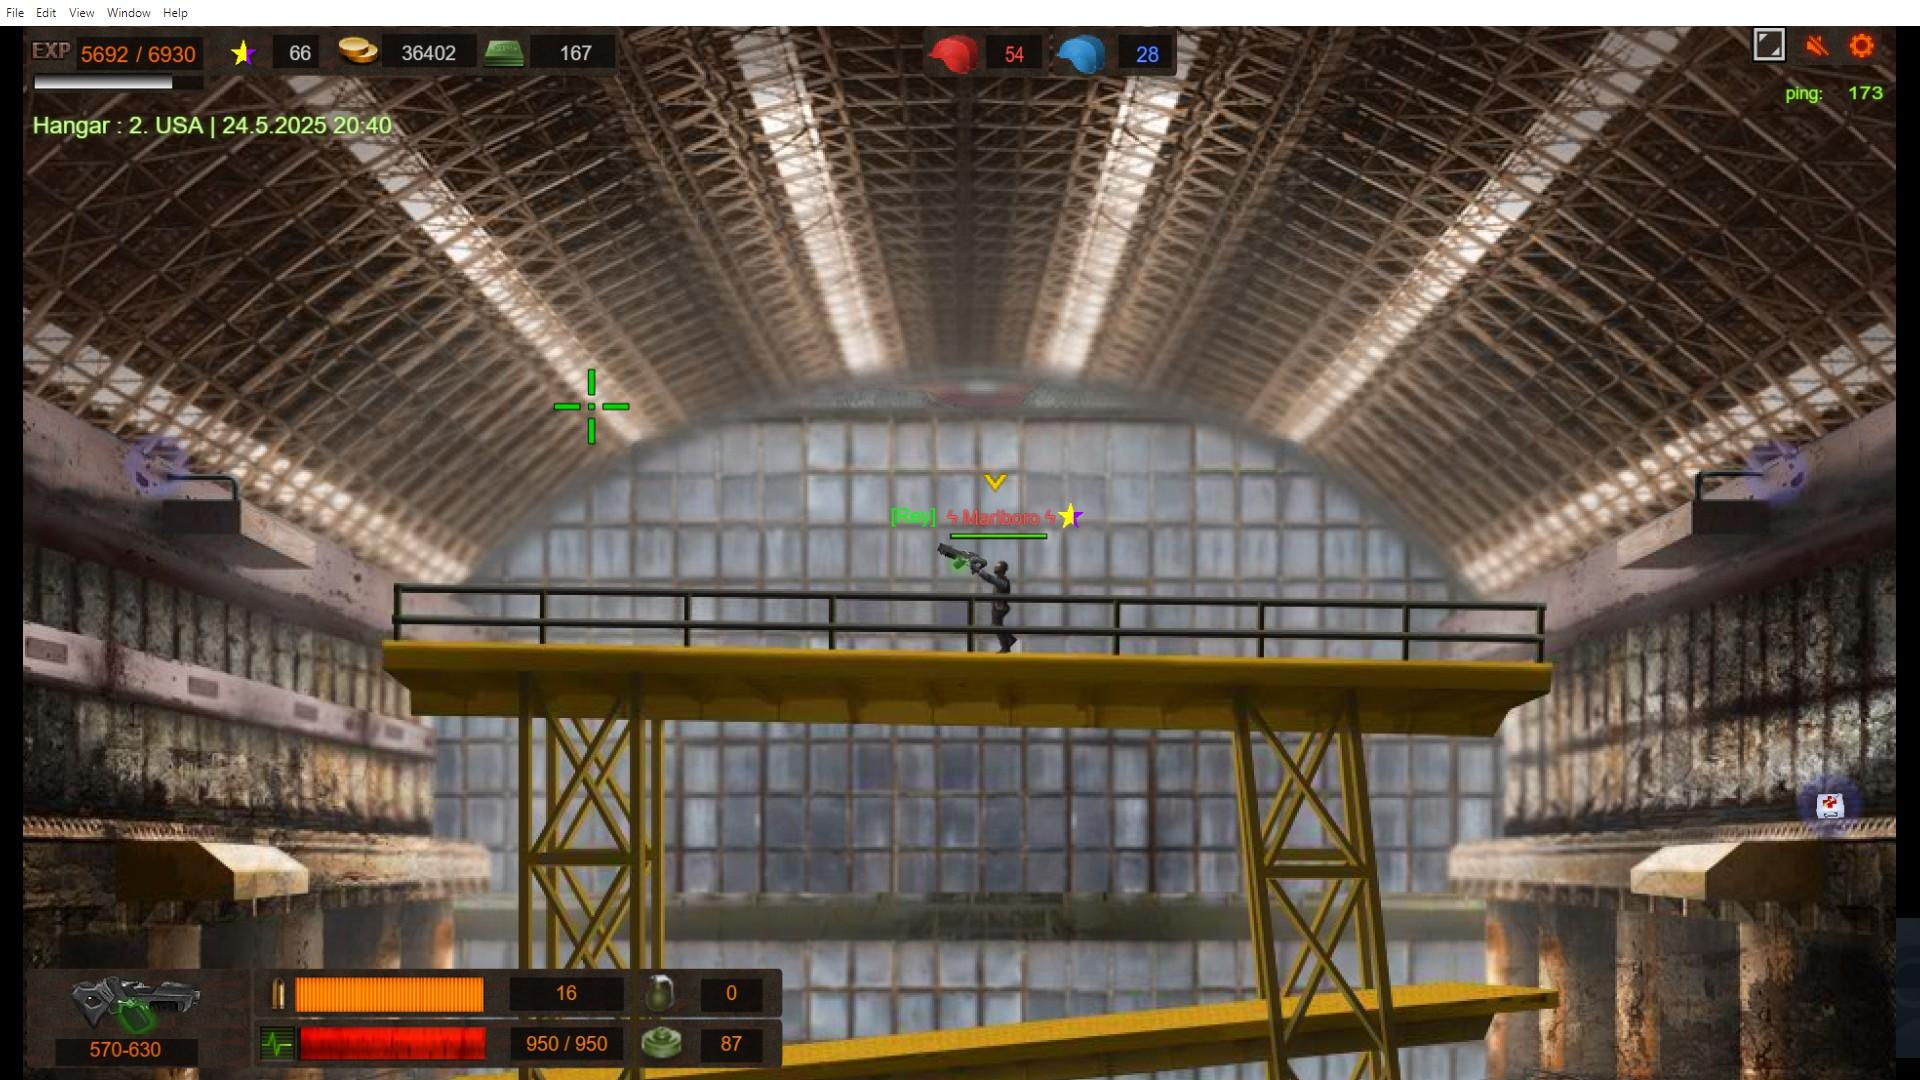enemy: (989, 562, 1017, 657)
